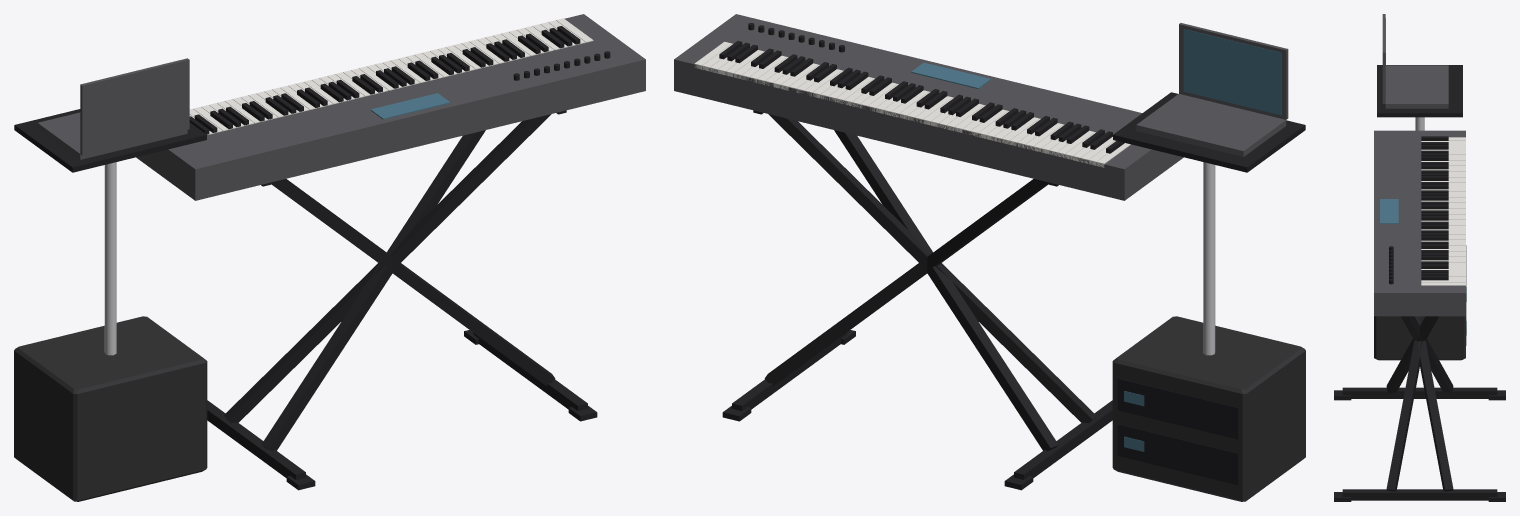
Rendered from synth-88.glb.
3 renders of one model, left to right at view 1: azimuth 30°, elevation 25°; view 2: azimuth 150°, elevation 25°; view 3: azimuth 270°, elevation 25°, orthographic. The views are drawn at different scales.
Parts seen in each view (by area): view 1: panel, frame, cabinet, keys, metal, screen; view 2: frame, panel, cabinet, keys, screen, metal; view 3: frame, panel, keys, cabinet, screen.
Part boxes in pixels (left/top/right/bottom): panel: left=37, top=14, right=645, bottom=200; frame: left=14, top=26, right=610, bottom=490; cabinet: left=14, top=316, right=207, bottom=501; keys: left=189, top=18, right=593, bottom=134; metal: left=104, top=162, right=116, bottom=355; screen: left=370, top=93, right=450, bottom=119; frame: left=719, top=23, right=1305, bottom=490; panel: left=674, top=14, right=1288, bottom=200; cabinet: left=1112, top=316, right=1305, bottom=501; keys: left=694, top=41, right=1130, bottom=167; screen: left=911, top=29, right=1281, bottom=451; metal: left=1203, top=162, right=1215, bottom=355; frame: left=1334, top=65, right=1505, bottom=501; panel: left=1374, top=14, right=1465, bottom=316; keys: left=1421, top=137, right=1465, bottom=285; cabinet: left=1374, top=316, right=1465, bottom=360; screen: left=1380, top=18, right=1466, bottom=335.
Size of the model in its own units: 1.7 by 1.21 by 0.6.
